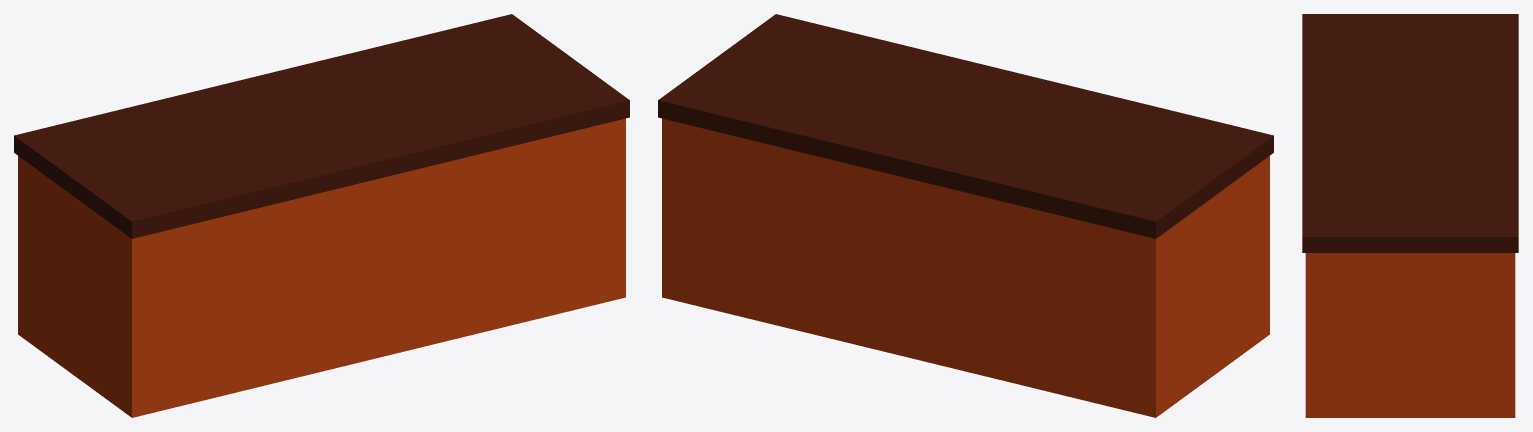
The model's file is shipping_container.glb.
The picture shows the model from 3 angles, left to right: view 1: azimuth 30°, elevation 25°; view 2: azimuth 150°, elevation 25°; view 3: azimuth 270°, elevation 25°; orthographic projection. The views are drawn at different scales.
Parts seen in each view (by area): view 1: shipping_container; view 2: shipping_container; view 3: shipping_container.
Boxes of the visible parts, box(x1,y1,x2,y2) form: shipping_container: box(14, 14, 629, 417); shipping_container: box(658, 14, 1273, 417); shipping_container: box(1302, 14, 1518, 417).
Bounding box in the file's own units: 6.05 × 2.3 × 2.48.
